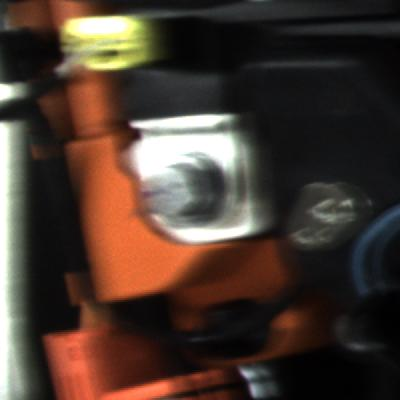nut_b: (139, 147, 229, 232)
